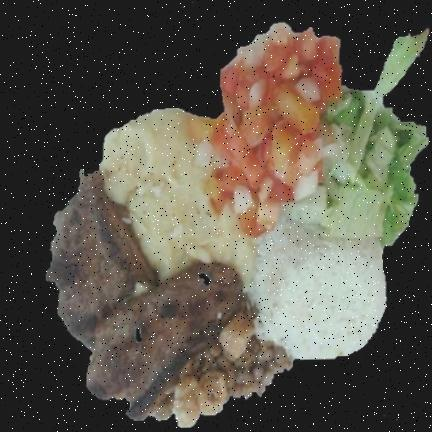meat: (47, 170, 292, 427)
potato: (100, 108, 255, 282)
rice: (247, 214, 386, 358)
salad: (293, 33, 428, 243)
tomato: (194, 24, 341, 236)
